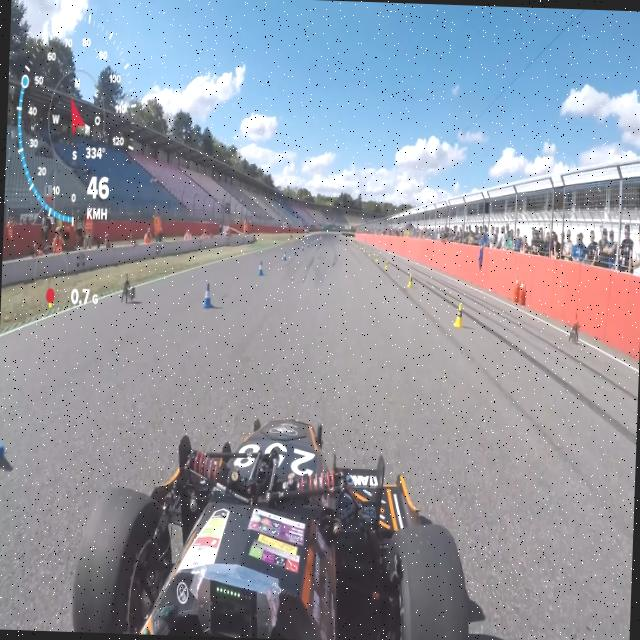blue_cone: (202, 282, 214, 309), (258, 260, 264, 276)
yellow_cone: (453, 301, 464, 328), (406, 272, 414, 288)
